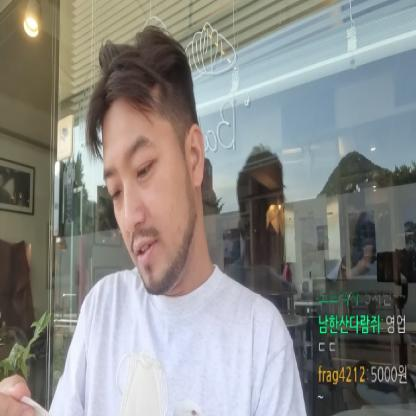streamer: (0, 23, 306, 416)
